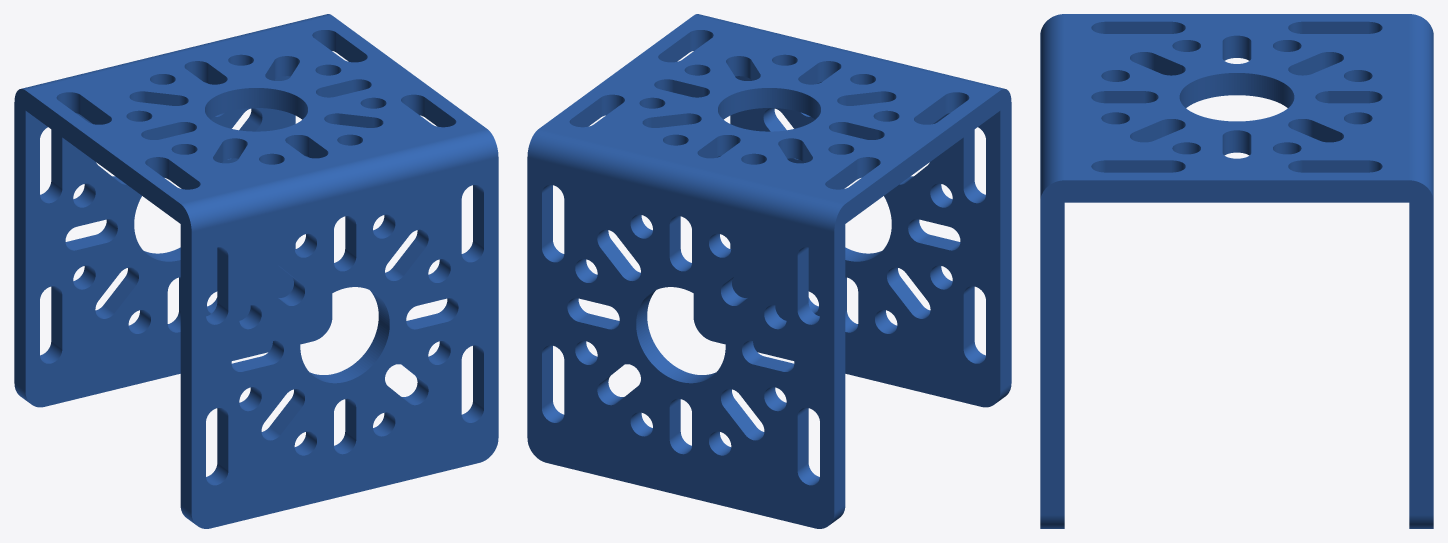
File: 76018-48mm-u-channel.dae
The picture shows the model from 3 angles, left to right: view 1: azimuth 30°, elevation 25°; view 2: azimuth 150°, elevation 25°; view 3: azimuth 270°, elevation 25°; orthographic projection. The views are drawn at different scales.
Parts seen in each view (by area): view 1: node_2ba523d9_b8de_4f03_bd22_47be6519c1c4_mesh0; view 2: node_2ba523d9_b8de_4f03_bd22_47be6519c1c4_mesh0; view 3: node_2ba523d9_b8de_4f03_bd22_47be6519c1c4_mesh0.
Part boxes in pixels (x1,y1,x2,y2): node_2ba523d9_b8de_4f03_bd22_47be6519c1c4_mesh0: [14, 14, 498, 528]; node_2ba523d9_b8de_4f03_bd22_47be6519c1c4_mesh0: [527, 14, 1011, 528]; node_2ba523d9_b8de_4f03_bd22_47be6519c1c4_mesh0: [1040, 14, 1433, 528].
Bounding box in the file's own units: 48 × 48 × 48.
